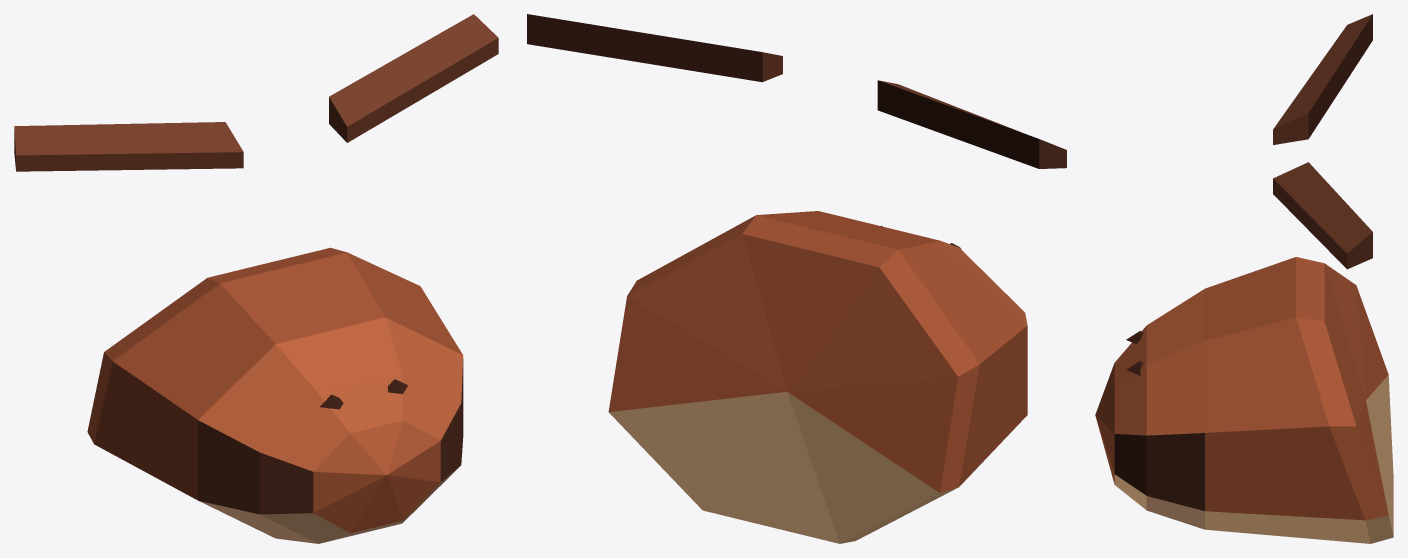
Rendered from snout_kb_round.glb.
3 views of the same model, side by side, from view 1: azimuth 30°, elevation 25°; view 2: azimuth 150°, elevation 25°; view 3: azimuth 270°, elevation 25° (orthographic). The views are drawn at different scales.
Parts seen in each view (by area): view 1: Snout; view 2: Snout; view 3: Snout.
Part boxes in pixels (<box>): Snout: <box>14,14,498,543</box>; Snout: <box>527,14,1066,543</box>; Snout: <box>1095,14,1393,543</box>.
Bounding box in the file's own units: 0.168 × 0.1338 × 0.0926.
1 material, 1 textured.
